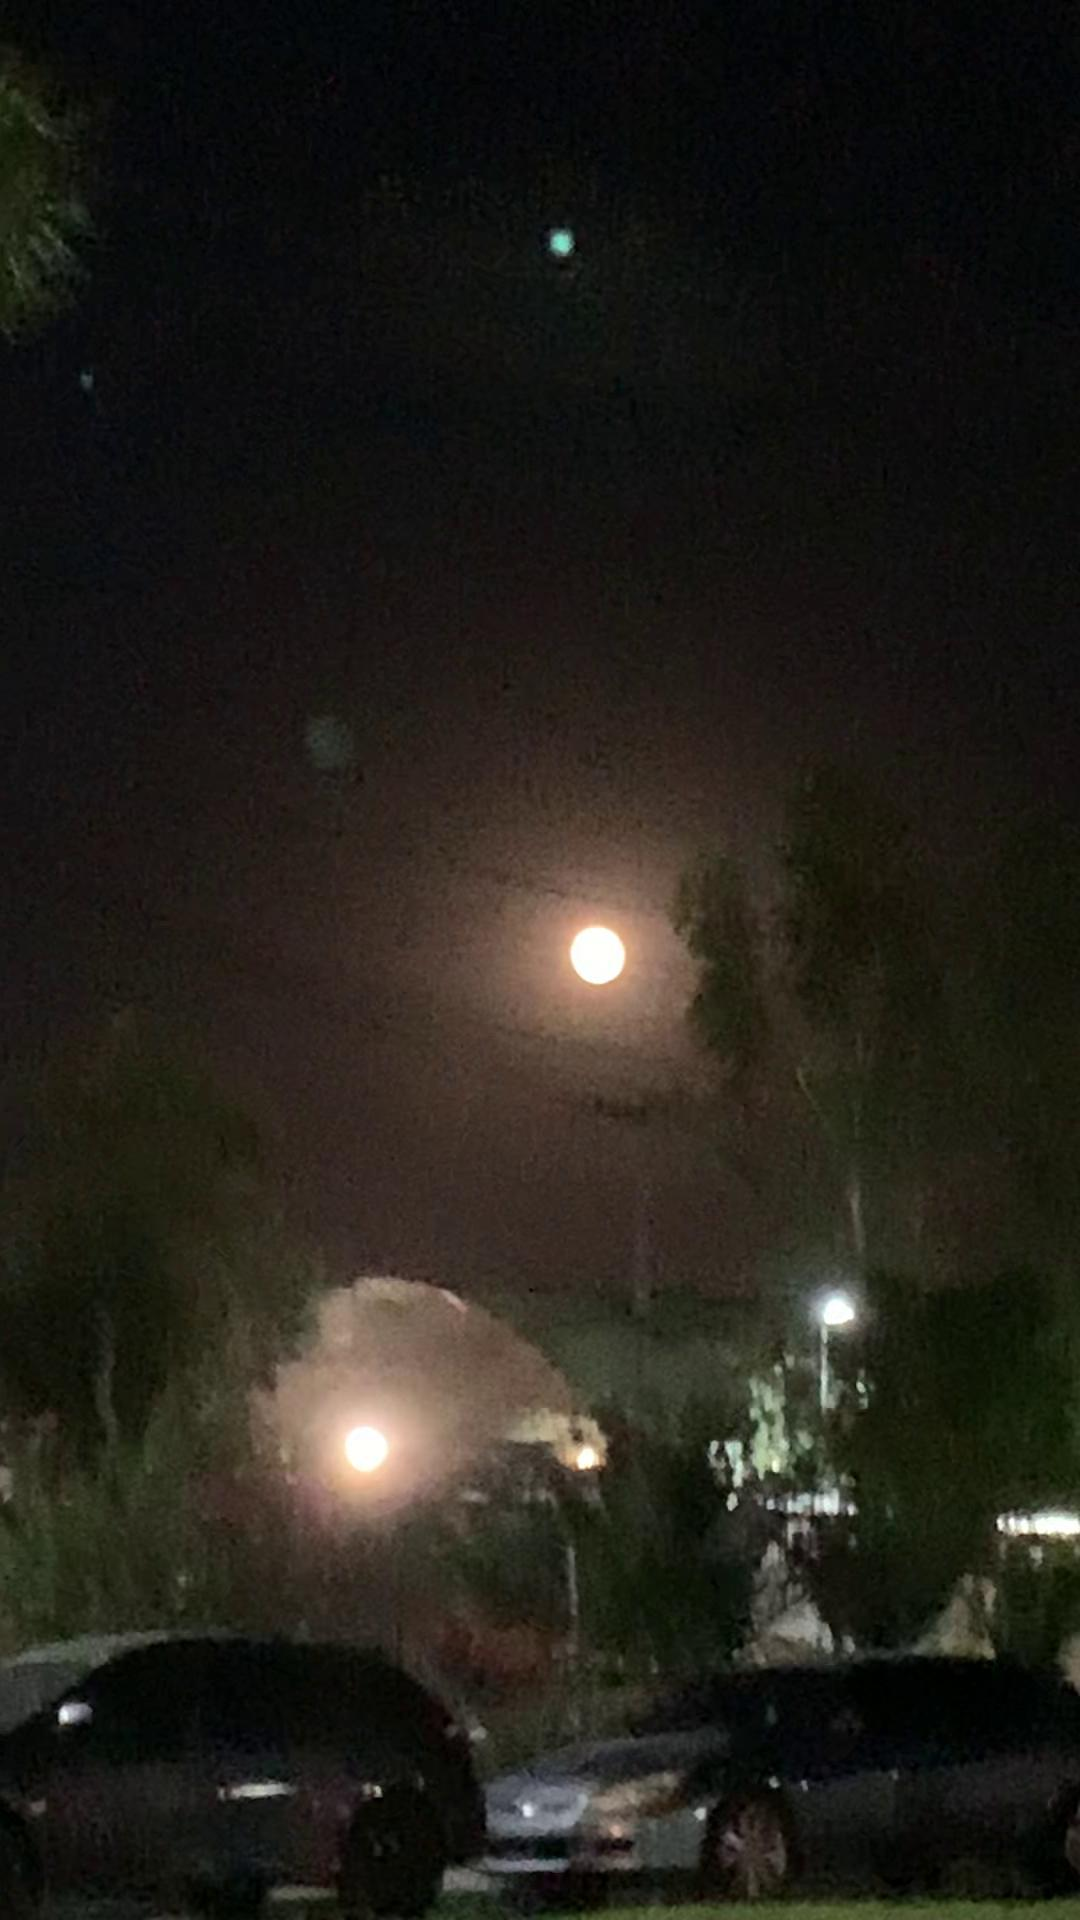moon: (568, 928, 640, 1000)
